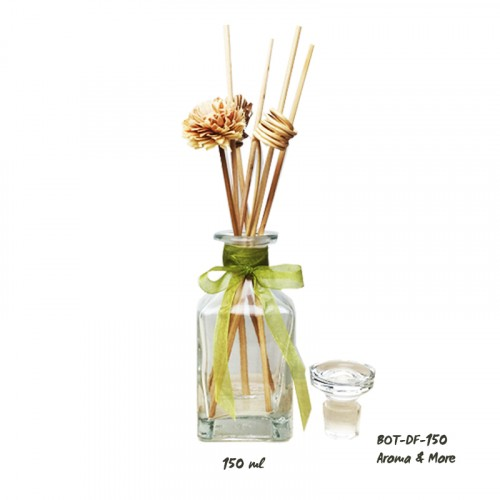glass_bottle: (189, 222, 305, 449)
